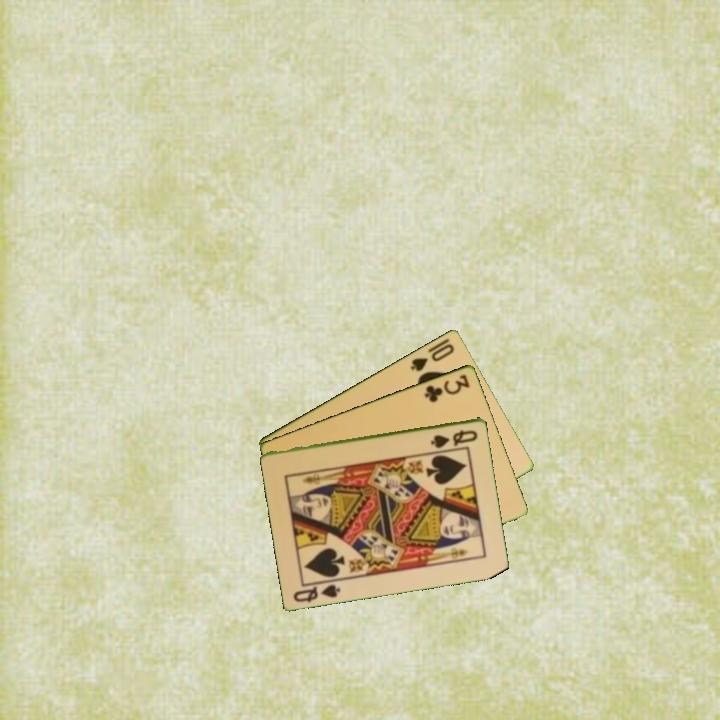10s: (407, 340, 457, 374)
3c: (421, 370, 473, 405)
Qs: (290, 576, 344, 605), (427, 426, 481, 450)
